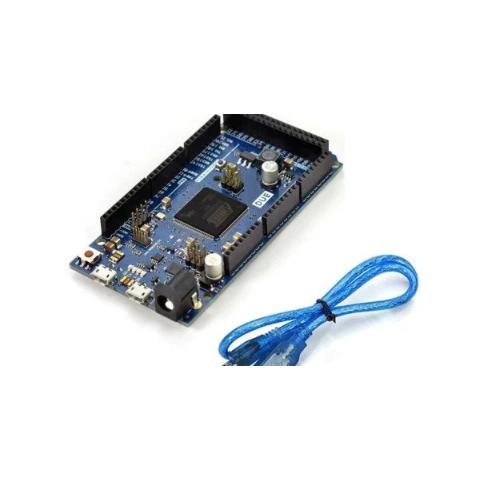Arduino-Due: (64, 114, 346, 334)
